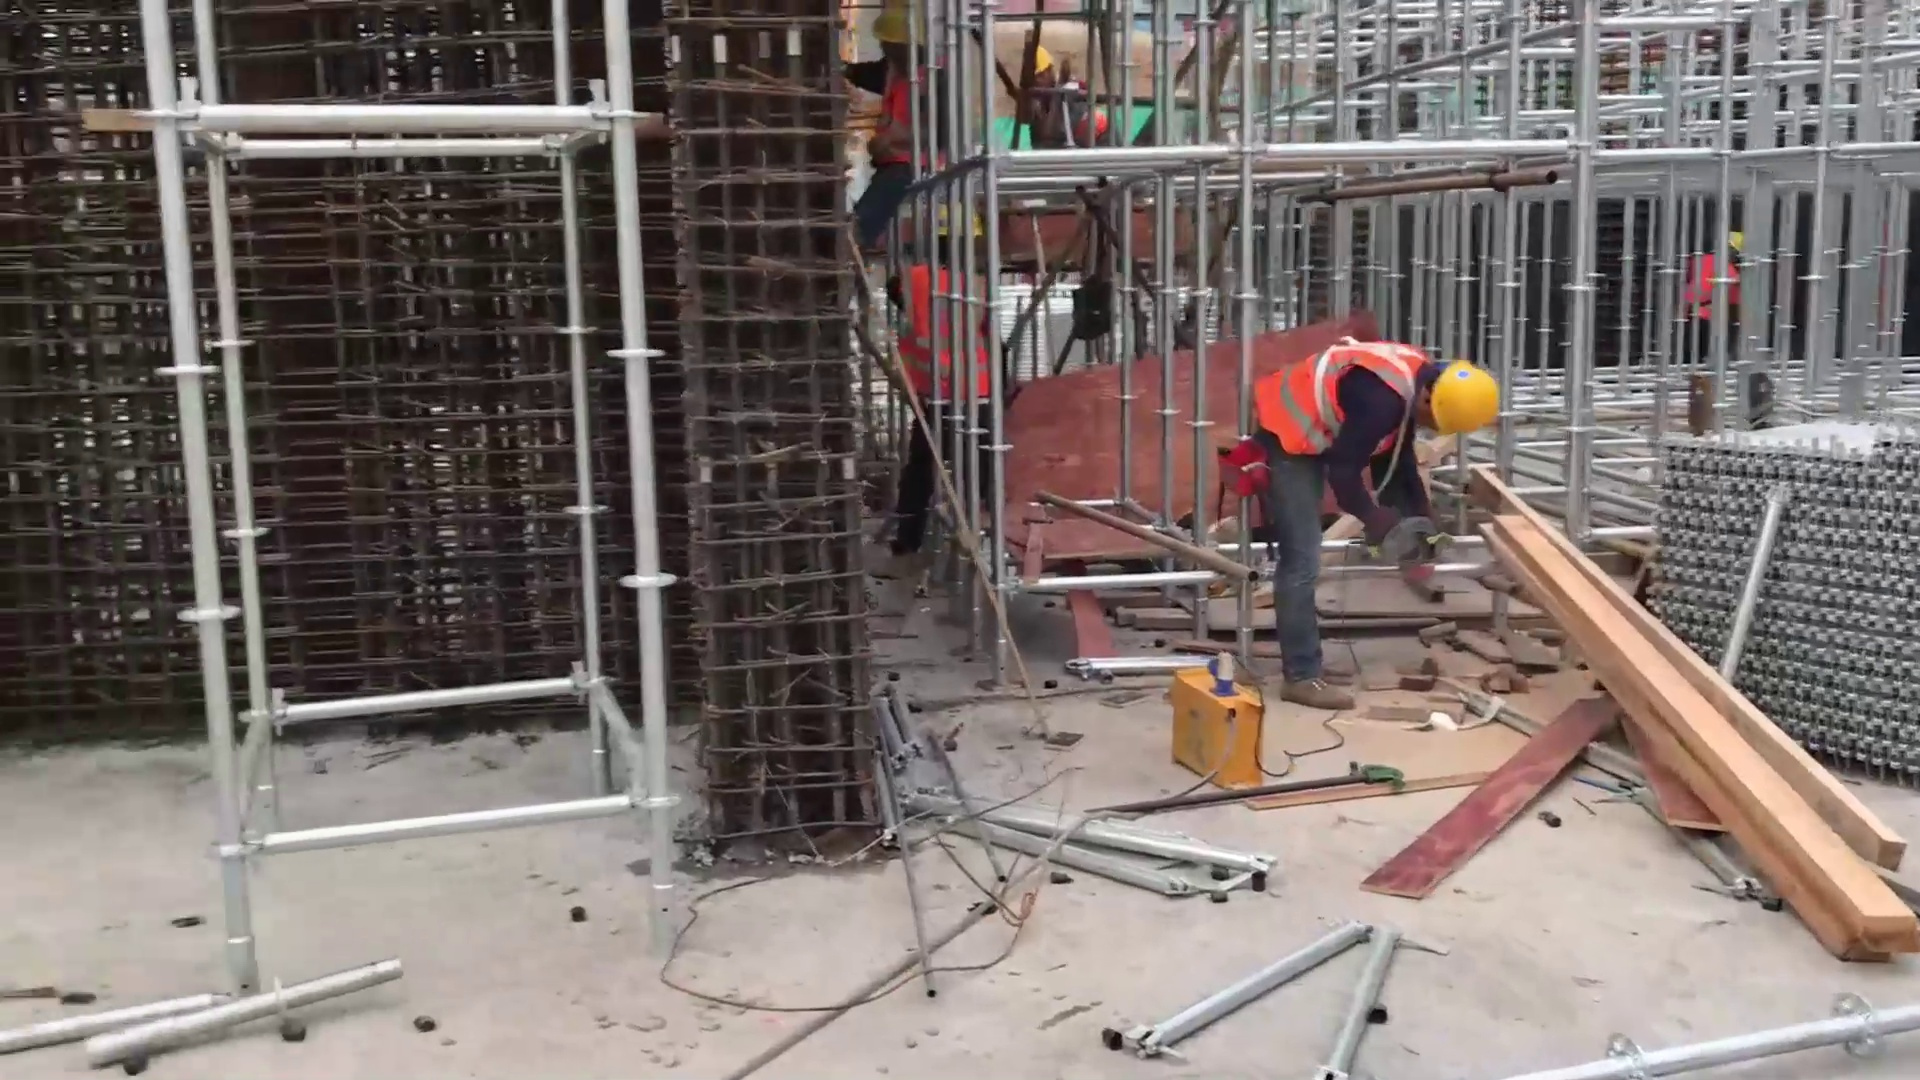cutter: (1366, 508, 1466, 587)
ebox: (1171, 631, 1271, 811)
helmet: (1433, 357, 1501, 446)
person: (1247, 333, 1512, 709), (895, 200, 1034, 564), (847, 9, 964, 234), (1012, 46, 1128, 153), (1681, 219, 1748, 346)
scaffold: (1634, 416, 1919, 785)
vest: (1251, 339, 1423, 465), (891, 265, 1004, 400), (874, 61, 933, 171)
wood: (1464, 472, 1919, 983)
